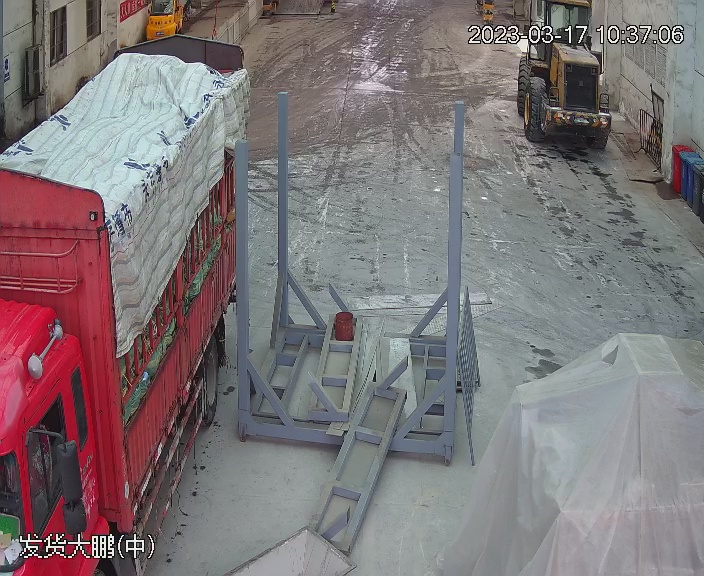truck: (1, 36, 259, 575)
